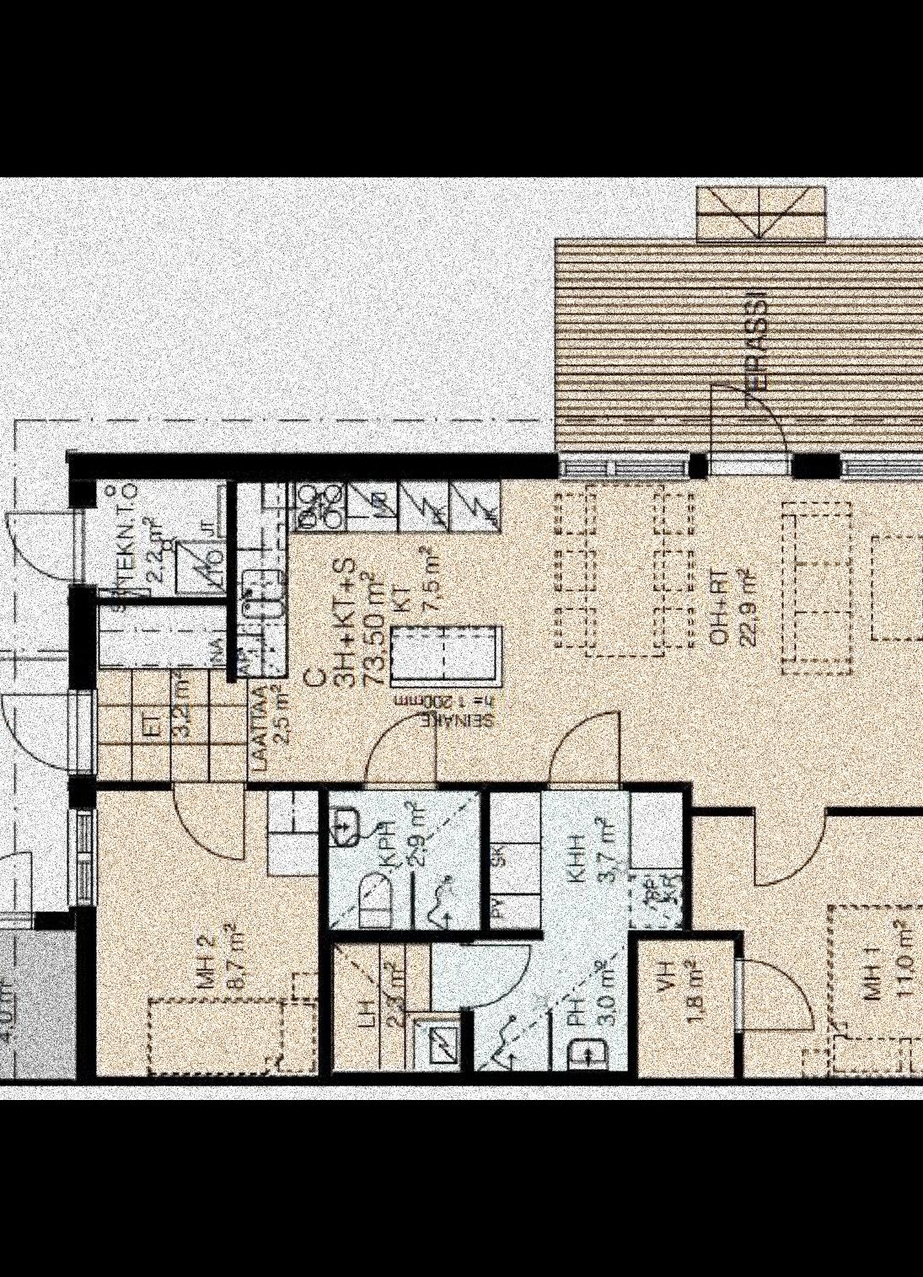door: (0, 690, 97, 772), (711, 372, 781, 479), (541, 711, 624, 796), (745, 807, 827, 892), (167, 780, 246, 868), (732, 952, 818, 1030), (0, 506, 88, 580), (363, 709, 438, 791), (462, 943, 536, 1008), (0, 842, 31, 926)
window: (555, 446, 689, 484), (66, 808, 97, 912), (837, 449, 923, 482)
zone: (235, 488, 923, 780), (338, 783, 679, 1060), (555, 240, 923, 453), (94, 795, 314, 1069), (691, 814, 923, 1072), (97, 601, 228, 776), (0, 655, 71, 905), (92, 480, 226, 597), (645, 939, 727, 1074), (0, 929, 69, 1079)
